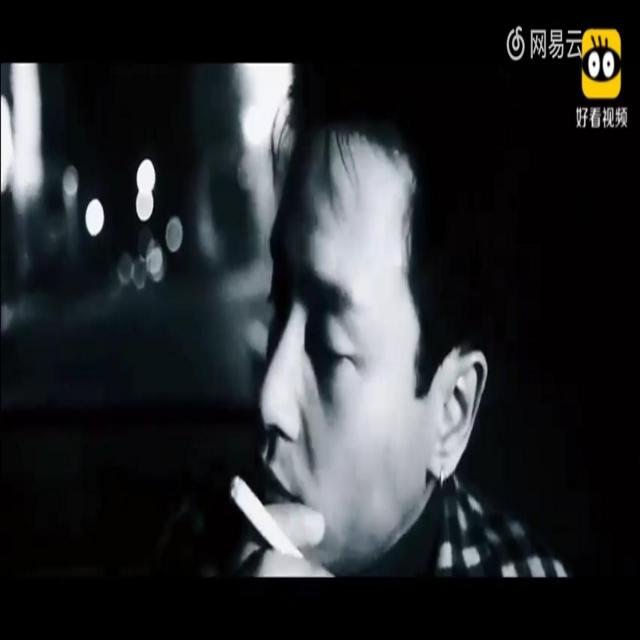Сигарета: (231, 473, 308, 560)
Тело: (225, 66, 543, 578)
